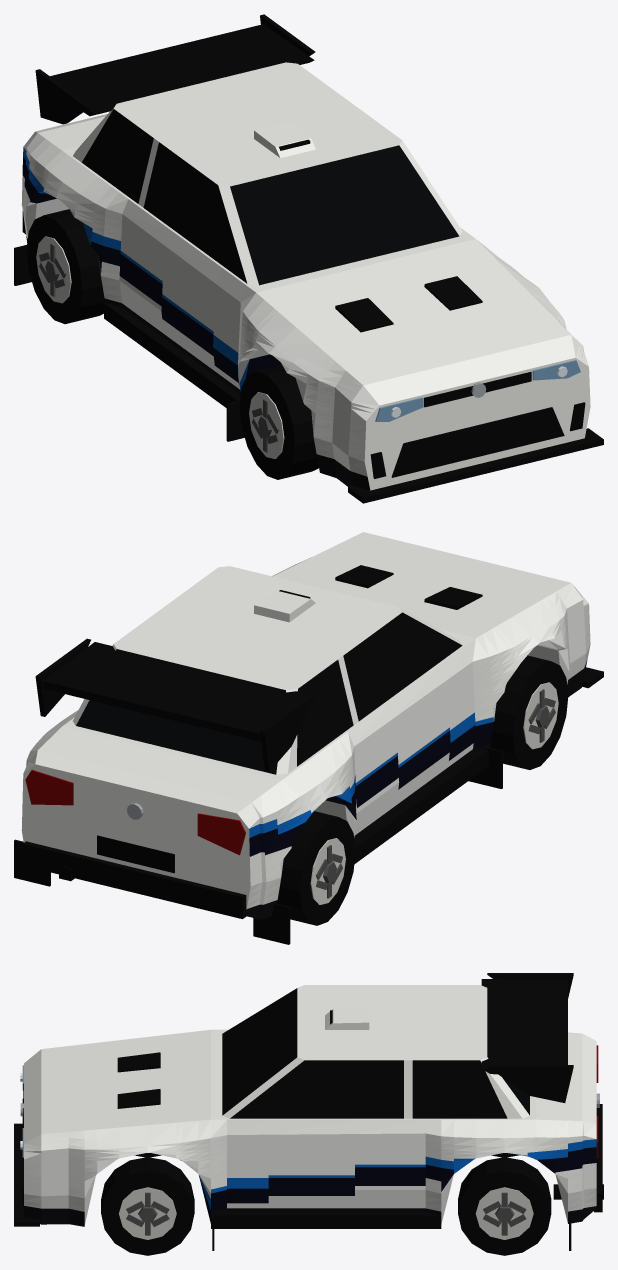
The model's file is polo-r-wrc.glb.
3 renders of one model, top to bottom at view 1: azimuth 30°, elevation 25°; view 2: azimuth 150°, elevation 25°; view 3: azimuth 270°, elevation 25°, orthographic. The views are drawn at different scales.
Parts seen in each view (by area): view 1: body, cabin, cabin-body, wing, mouth, wheel-back-right, wheel-front-right, body-navy, skirt-right, splitter, wing-plate-right, body-sill (+7 smaller); view 2: body, cabin-body, cabin, wing, bumper-rear, wheel-back-right, wheel-front-right, body-navy, skirt-right, wing-plate-right, body-blue, plate-recess (+12 smaller); view 3: body, cabin, cabin-body, wing, body-navy, wheel-back-left, wheel-front-left, skirt-left, body-blue, body-sill, wing-plate-left, rim-front-left (+7 smaller).
Boxes of the visible parts, x1,y1,x2,y2 form: body: [21, 114, 590, 490]; cabin: [82, 109, 459, 285]; cabin-body: [73, 62, 462, 285]; wing: [50, 24, 314, 116]; mouth: [391, 407, 564, 477]; wheel-back-right: [26, 209, 104, 324]; wheel-front-right: [239, 365, 318, 479]; body-navy: [22, 156, 281, 382]; skirt-right: [104, 303, 240, 407]; splitter: [348, 428, 603, 503]; wing-plate-right: [35, 69, 90, 124]; body-sill: [26, 236, 370, 490]; body: [21, 532, 590, 909]; cabin-body: [73, 566, 461, 774]; cabin: [76, 612, 462, 774]; wing: [43, 642, 309, 741]; bumper-rear: [22, 841, 247, 919]; wheel-back-right: [277, 811, 355, 925]; wheel-front-right: [490, 655, 568, 769]; body-navy: [249, 722, 493, 856]; skirt-right: [354, 749, 488, 864]; wing-plate-right: [260, 693, 315, 771]; body-blue: [249, 712, 493, 837]; plate-recess: [97, 835, 174, 873]; body: [24, 1029, 596, 1224]; cabin: [222, 988, 529, 1118]; cabin-body: [222, 985, 529, 1118]; wing: [481, 979, 567, 1074]; body-navy: [199, 1147, 596, 1223]; wheel-back-left: [458, 1157, 551, 1255]; wheel-front-left: [101, 1157, 194, 1255]; skirt-left: [211, 1212, 441, 1228]; body-blue: [199, 1139, 596, 1210]; body-sill: [24, 1206, 596, 1226]; wing-plate-left: [487, 1065, 573, 1102]; rim-front-left: [118, 1187, 176, 1239].
Size of the model in its own units: 1.89 by 1.41 by 4.1.
